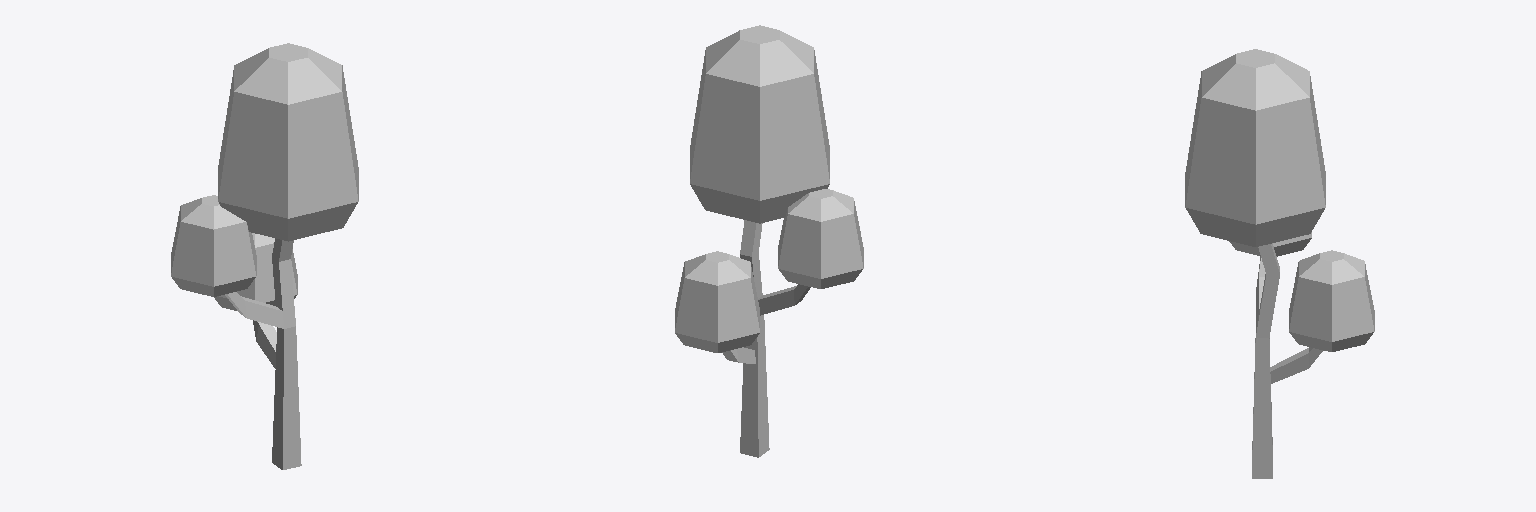
The model's file is arvore.obj.
3 renders of one model, left to right at view 1: azimuth 30°, elevation 25°; view 2: azimuth 150°, elevation 25°; view 3: azimuth 270°, elevation 25°, orthographic.
Visible parts, largest first — view 1: Mesh1_Group1_Model; view 2: Mesh1_Group1_Model; view 3: Mesh1_Group1_Model.
Boxes of the visible parts, box(x1,y1,x2,y2) form: Mesh1_Group1_Model: box(171, 43, 358, 469); Mesh1_Group1_Model: box(675, 25, 863, 457); Mesh1_Group1_Model: box(1185, 49, 1374, 478).
Bounding box in the file's own units: 0.7133 × 1.56 × 0.6463.